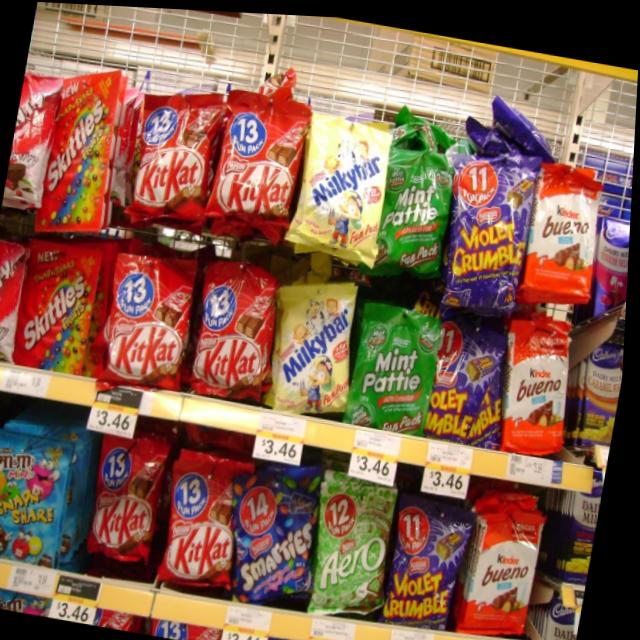q151: (38, 60, 134, 249), (9, 228, 111, 394)
q280: (204, 75, 318, 259), (119, 77, 221, 240), (101, 238, 207, 393), (189, 255, 290, 413), (159, 443, 255, 586), (93, 428, 178, 569)
